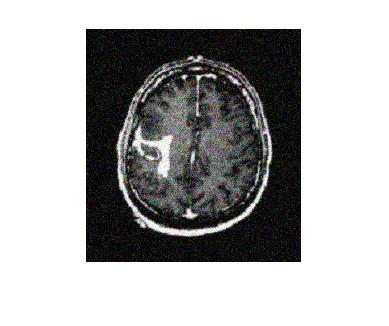Brain_Cancer: (134, 128, 171, 177)
